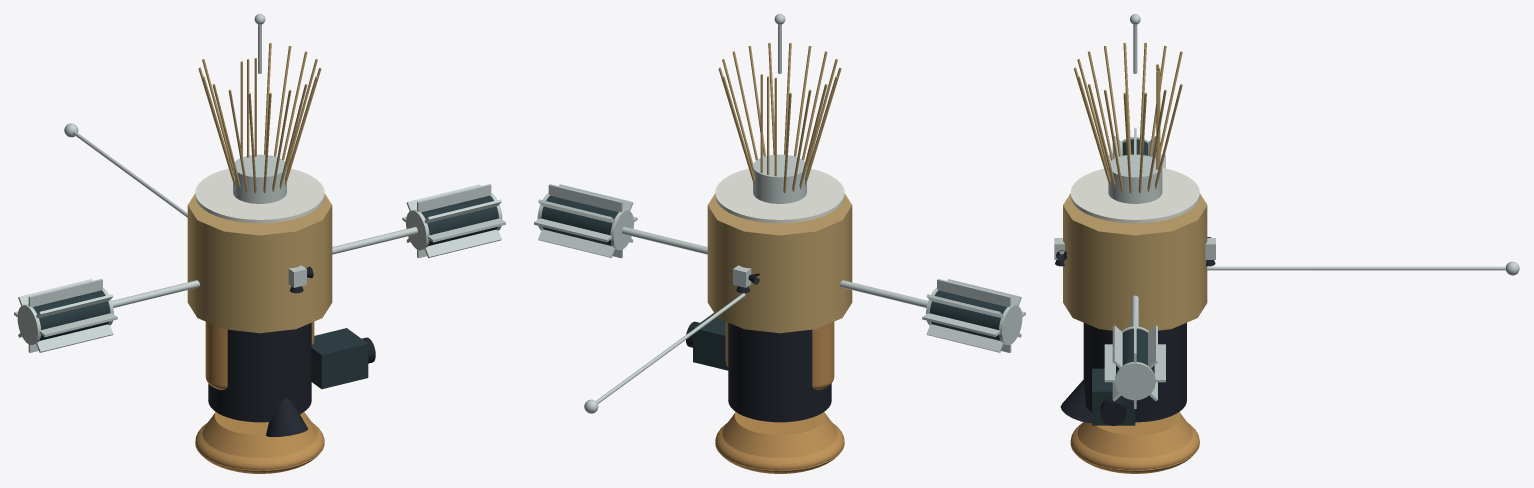
File: galileo.glb
3 renders of one model, left to right at view 1: azimuth 30°, elevation 25°; view 2: azimuth 150°, elevation 25°; view 3: azimuth 270°, elevation 25°, orthographic.
Visible parts, largest first — view 1: body, service (×3), antenna, payload, instruments, propulsion; view 2: body, service (×3), antenna, payload, instruments, propulsion; view 3: body, antenna, payload, service (×2), instruments, propulsion.
Part boxes in pixels (left/top/right/bottom): body: left=187, top=193, right=332, bottom=422; service (×3): left=14, top=184, right=505, bottom=352; antenna: left=195, top=14, right=324, bottom=223; payload: left=195, top=412, right=324, bottom=473; instruments: left=64, top=123, right=375, bottom=389; propulsion: left=205, top=265, right=314, bottom=437; body: left=707, top=193, right=852, bottom=422; service (×3): left=534, top=184, right=1025, bottom=352; antenna: left=715, top=14, right=844, bottom=223; payload: left=715, top=412, right=844, bottom=473; instruments: left=584, top=293, right=745, bottom=413; propulsion: left=725, top=265, right=834, bottom=389; body: left=1063, top=193, right=1207, bottom=422; antenna: left=1070, top=14, right=1199, bottom=223; payload: left=1070, top=412, right=1199, bottom=473; service (×2): left=1104, top=128, right=1165, bottom=408; instruments: left=1092, top=261, right=1519, bottom=425; propulsion: left=1054, top=237, right=1215, bottom=422.
Bounding box in the file's own units: 4.98 × 4.55 × 4.31.
